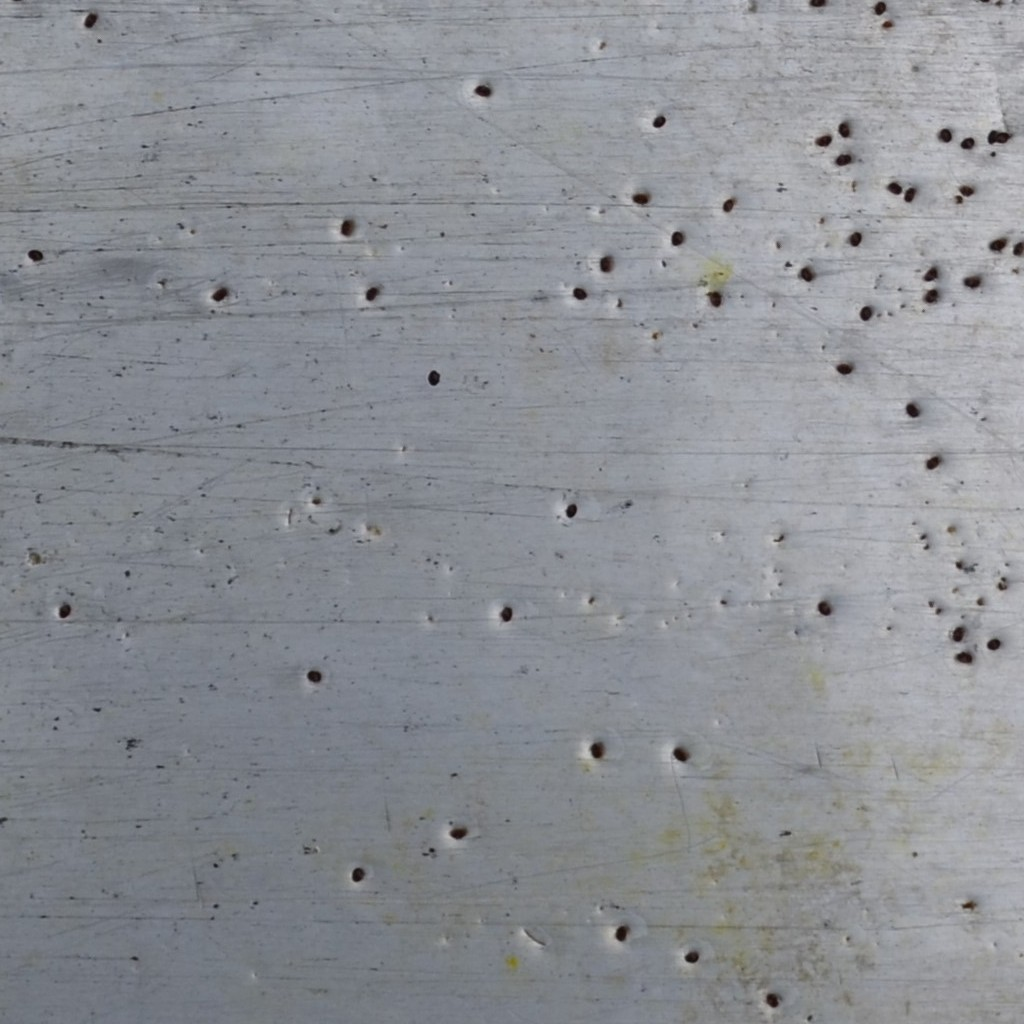varroa: (209, 278, 231, 306), (814, 597, 836, 620), (349, 862, 369, 886), (81, 8, 100, 32), (670, 226, 689, 249), (338, 215, 357, 238), (470, 82, 493, 101), (25, 244, 44, 267), (706, 284, 723, 309), (363, 281, 383, 302), (672, 744, 691, 766), (953, 647, 974, 666), (764, 989, 783, 1010), (447, 823, 468, 842), (650, 111, 668, 133), (305, 666, 327, 684), (630, 190, 653, 207), (834, 149, 854, 168), (903, 399, 923, 418), (682, 947, 702, 966), (798, 262, 815, 284), (598, 253, 615, 275), (614, 921, 630, 944), (984, 635, 1003, 654), (948, 624, 967, 643), (957, 181, 977, 199), (962, 273, 983, 290), (921, 288, 942, 305), (834, 361, 855, 378), (56, 601, 73, 622), (563, 501, 581, 520), (902, 184, 919, 204), (884, 180, 902, 198), (924, 453, 942, 471), (814, 133, 833, 150), (571, 283, 588, 302), (426, 366, 441, 387), (987, 236, 1005, 253), (921, 265, 939, 282), (497, 605, 515, 622), (588, 740, 603, 760), (849, 228, 863, 249), (858, 303, 874, 321), (837, 120, 852, 139), (720, 195, 735, 213), (986, 130, 1001, 147), (958, 136, 976, 150), (998, 128, 1013, 144), (938, 128, 953, 144), (871, 1, 887, 15), (1012, 239, 1023, 257), (806, 0, 828, 7)
